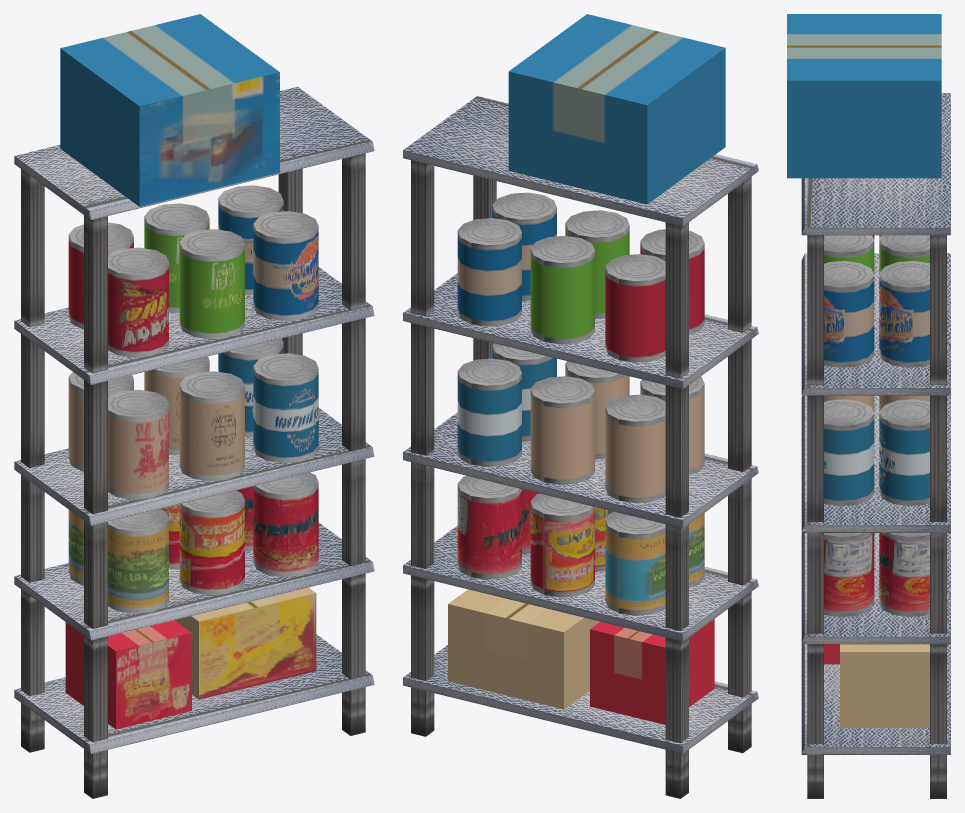
File: canned food shelf 4.FBX
The picture shows the model from 3 angles, left to right: view 1: azimuth 30°, elevation 25°; view 2: azimuth 150°, elevation 25°; view 3: azimuth 270°, elevation 25°; orthographic projection. The views are drawn at different scales.
Parts seen in each view (by area): view 1: 紙箱030, 腳架014, 腳架015, 腳架012, 紙箱034, 板架015, 板架019, 板架018, 紙箱029, 板架016, 板架017, 罐頭1030 (+17 smaller); view 2: 紙箱030, 紙箱034, 腳架012, 腳架013, 腳架014, 板架019, 板架018, 板架016, 板架017, 紙箱029, 板架015, 罐頭1025 (+17 smaller); view 3: 紙箱030, 板架019, 腳架013, 腳架015, 紙箱034, 板架018, 板架017, 板架015, 板架016, 罐頭1029, 罐頭1035, 罐頭1034 (+8 smaller).
Boxes of the visible parts, x1,y1,x2,y2 form: 紙箱030: (60,14,279,206); 腳架014: (84,215,107,798); 腳架015: (342,153,365,735); 腳架012: (21,169,44,752); 紙箱034: (175,587,316,699); 板架015: (14,634,374,753); 板架019: (14,87,374,219); 板架018: (14,267,374,384); 紙箱029: (65,620,191,729); 板架016: (14,522,374,640); 板架017: (14,408,374,525); 罐頭1030: (179,229,244,338); 紙箱030: (508,14,725,204); 紙箱034: (448,589,599,709); 腳架012: (665,222,688,798); 腳架013: (411,160,434,736); 腳架014: (728,176,751,753); 板架019: (403,96,758,226); 板架018: (403,273,758,389); 板架016: (403,525,758,641); 板架017: (403,412,758,528); 紙箱029: (590,619,714,724); 板架015: (403,645,758,753); 罐頭1025: (530,376,594,484); 紙箱030: (787,14,941,178); 板架019: (801,93,950,235); 腳架013: (930,235,946,798); 腳架015: (807,235,823,798); 紙箱034: (840,644,929,727); 板架018: (801,253,950,395); 板架017: (801,395,950,532); 板架015: (801,644,950,754); 板架016: (801,533,950,644); 罐頭1029: (879,399,929,506); 罐頭1035: (879,261,929,367); 罐頭1034: (824,261,874,367).
Size of the model in its own units: 565 by 1316 by 291.
14 materials, 14 textured.
